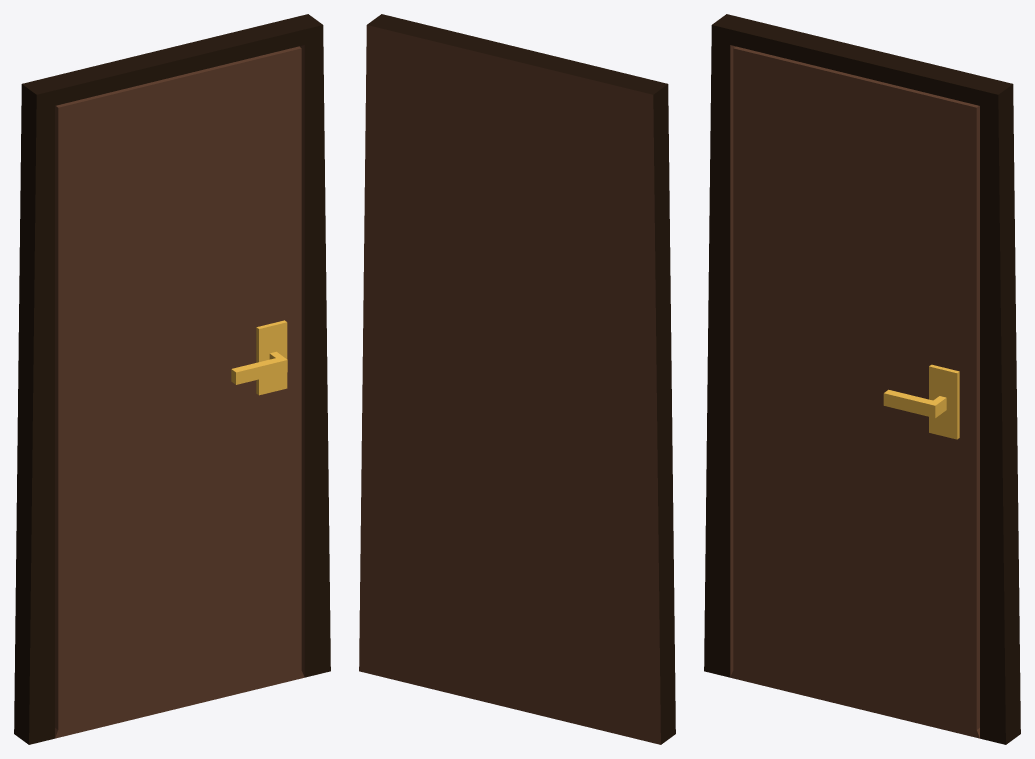
The model's file is DoorWithFrame.fbx.
3 views of the same model, side by side, from view 1: azimuth 30°, elevation 25°; view 2: azimuth 150°, elevation 25°; view 3: azimuth 330°, elevation 25° (orthographic).
Parts seen in each view (by area): view 1: Door_w_Frame; view 2: Door_w_Frame; view 3: Door_w_Frame.
Part boxes in pixels (box(x1,y1,x2,y2)): Door_w_Frame: box(14, 14, 330, 744); Door_w_Frame: box(359, 14, 675, 744); Door_w_Frame: box(704, 14, 1020, 744).
Bounding box in the file's own units: 2990 × 6136 × 491.
1 material, 1 textured.
